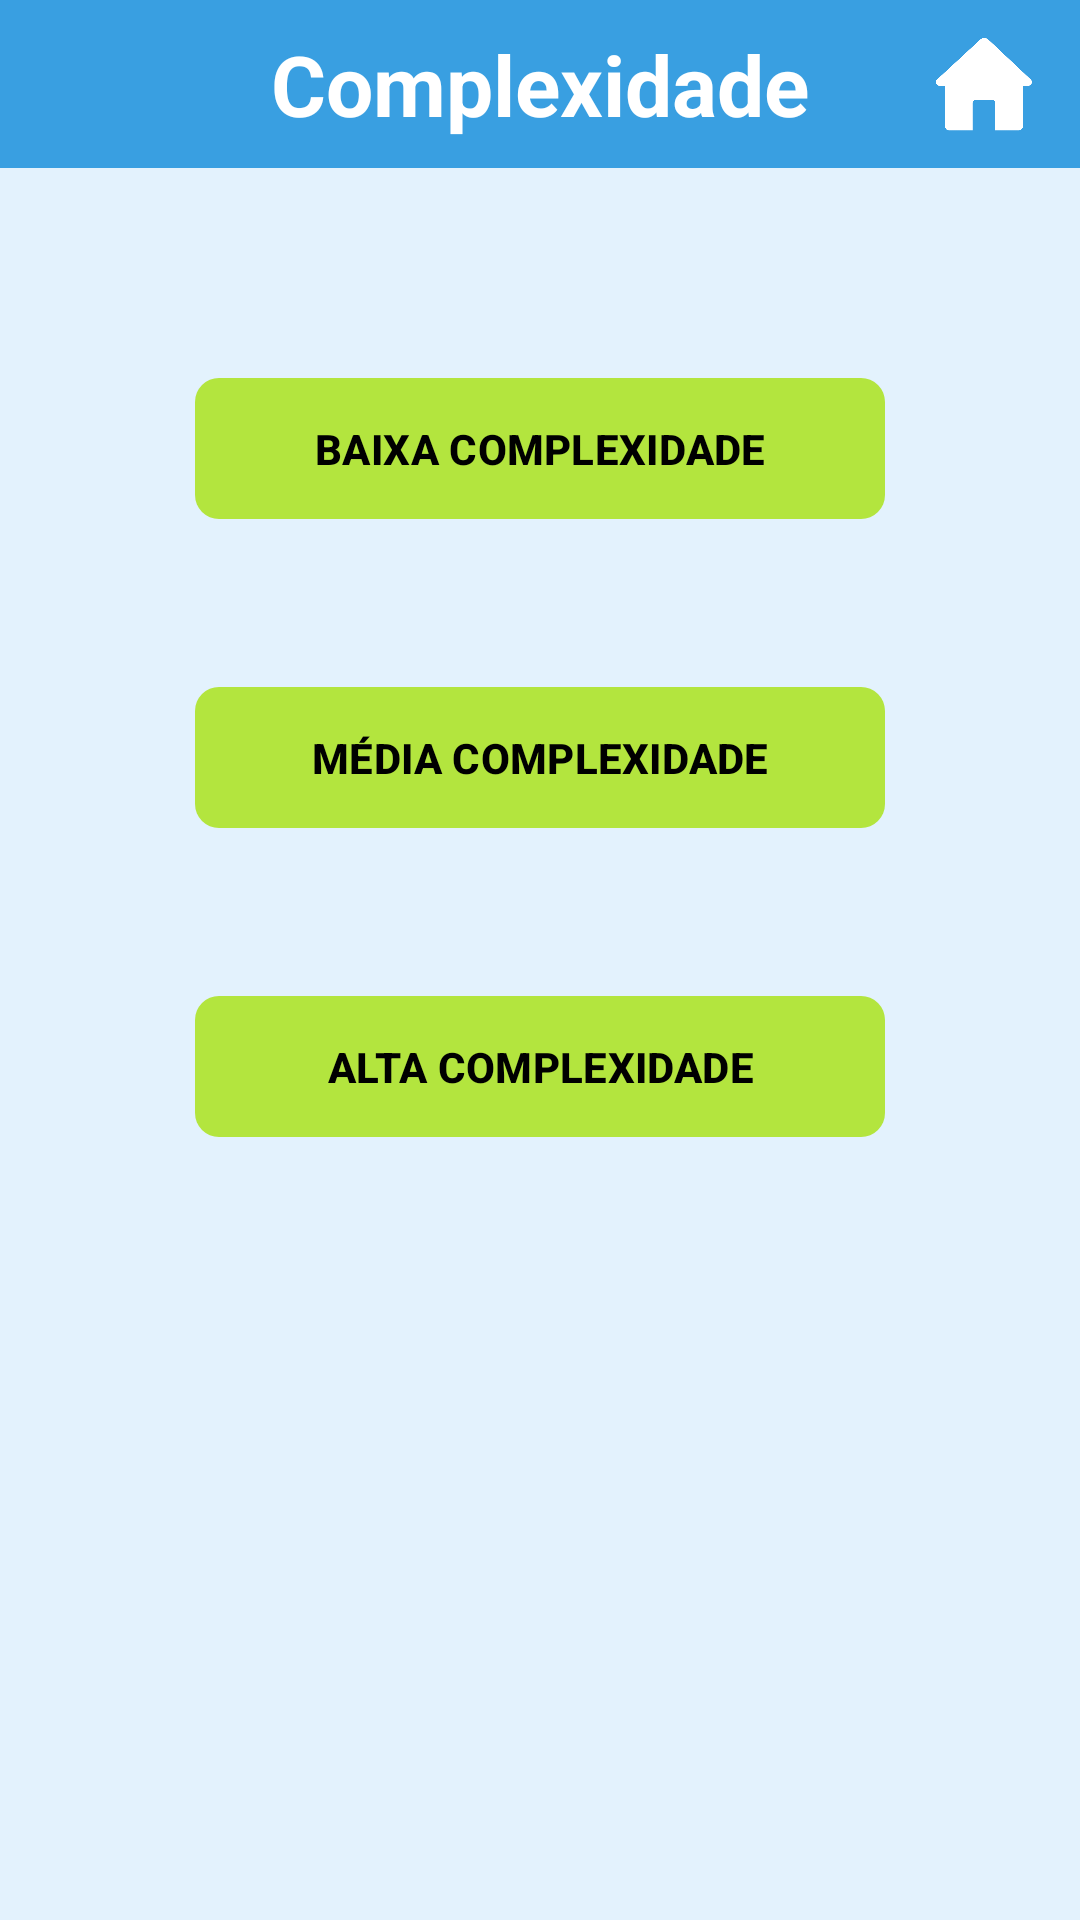

Where icons sit on this 1080 × 1920 app screen, as (x1,y1,x2,y2):
Home: (936,38,1032,131)
